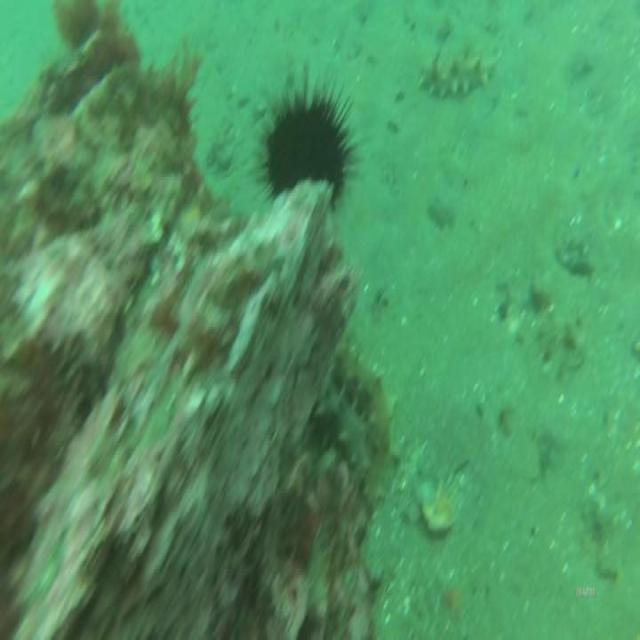echinus: (254, 55, 364, 214)
holothurian: (331, 336, 401, 514), (415, 38, 504, 114)
